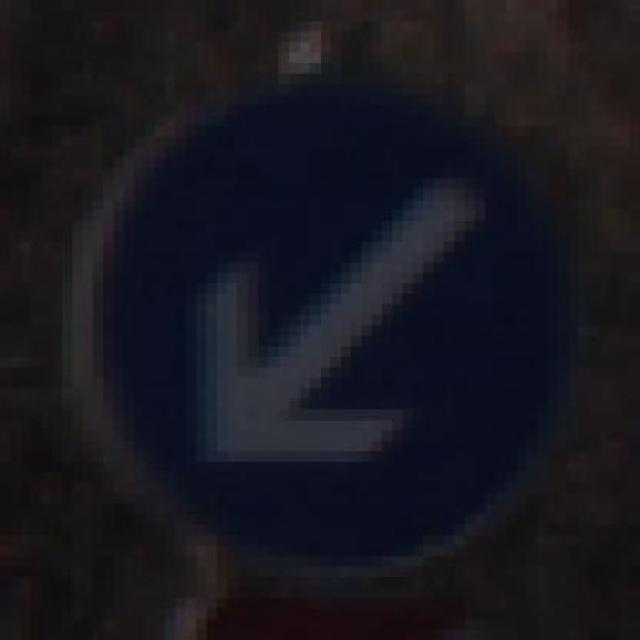Keep-Left: (72, 31, 598, 598)
